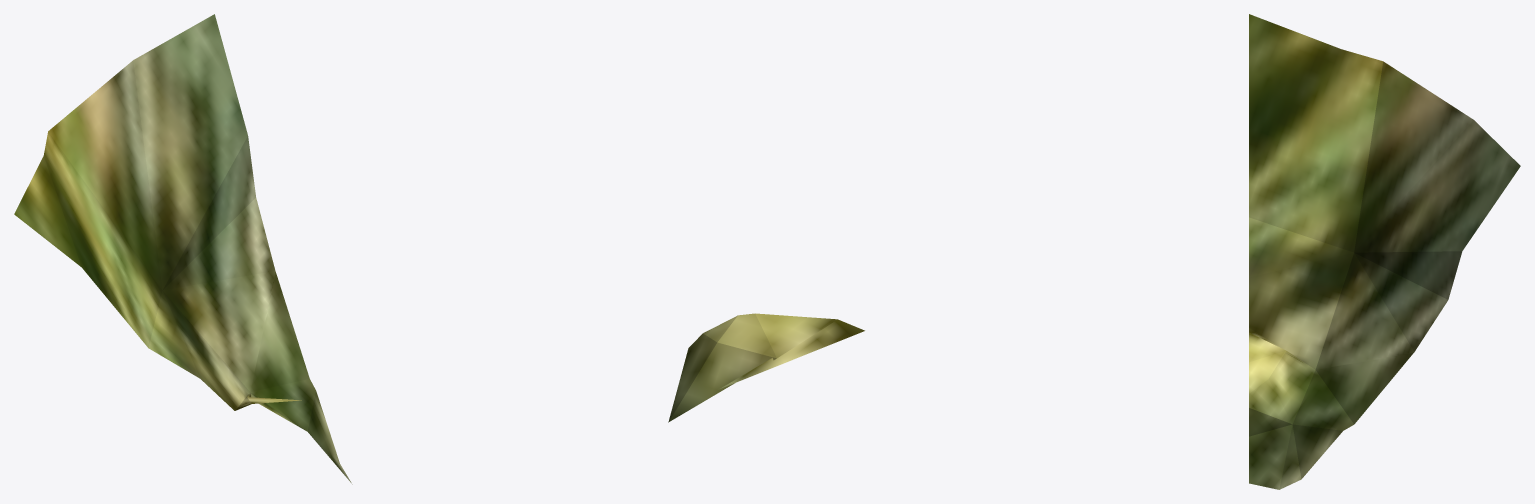
3 renders of one model, left to right at view 1: azimuth 30°, elevation 25°; view 2: azimuth 150°, elevation 25°; view 3: azimuth 270°, elevation 25°, orthographic. The views are drawn at different scales.
Size of the model in its own units: 0.6278 by 0.6235 by 0.4741.
Materials: 1 (1 with a texture image).
